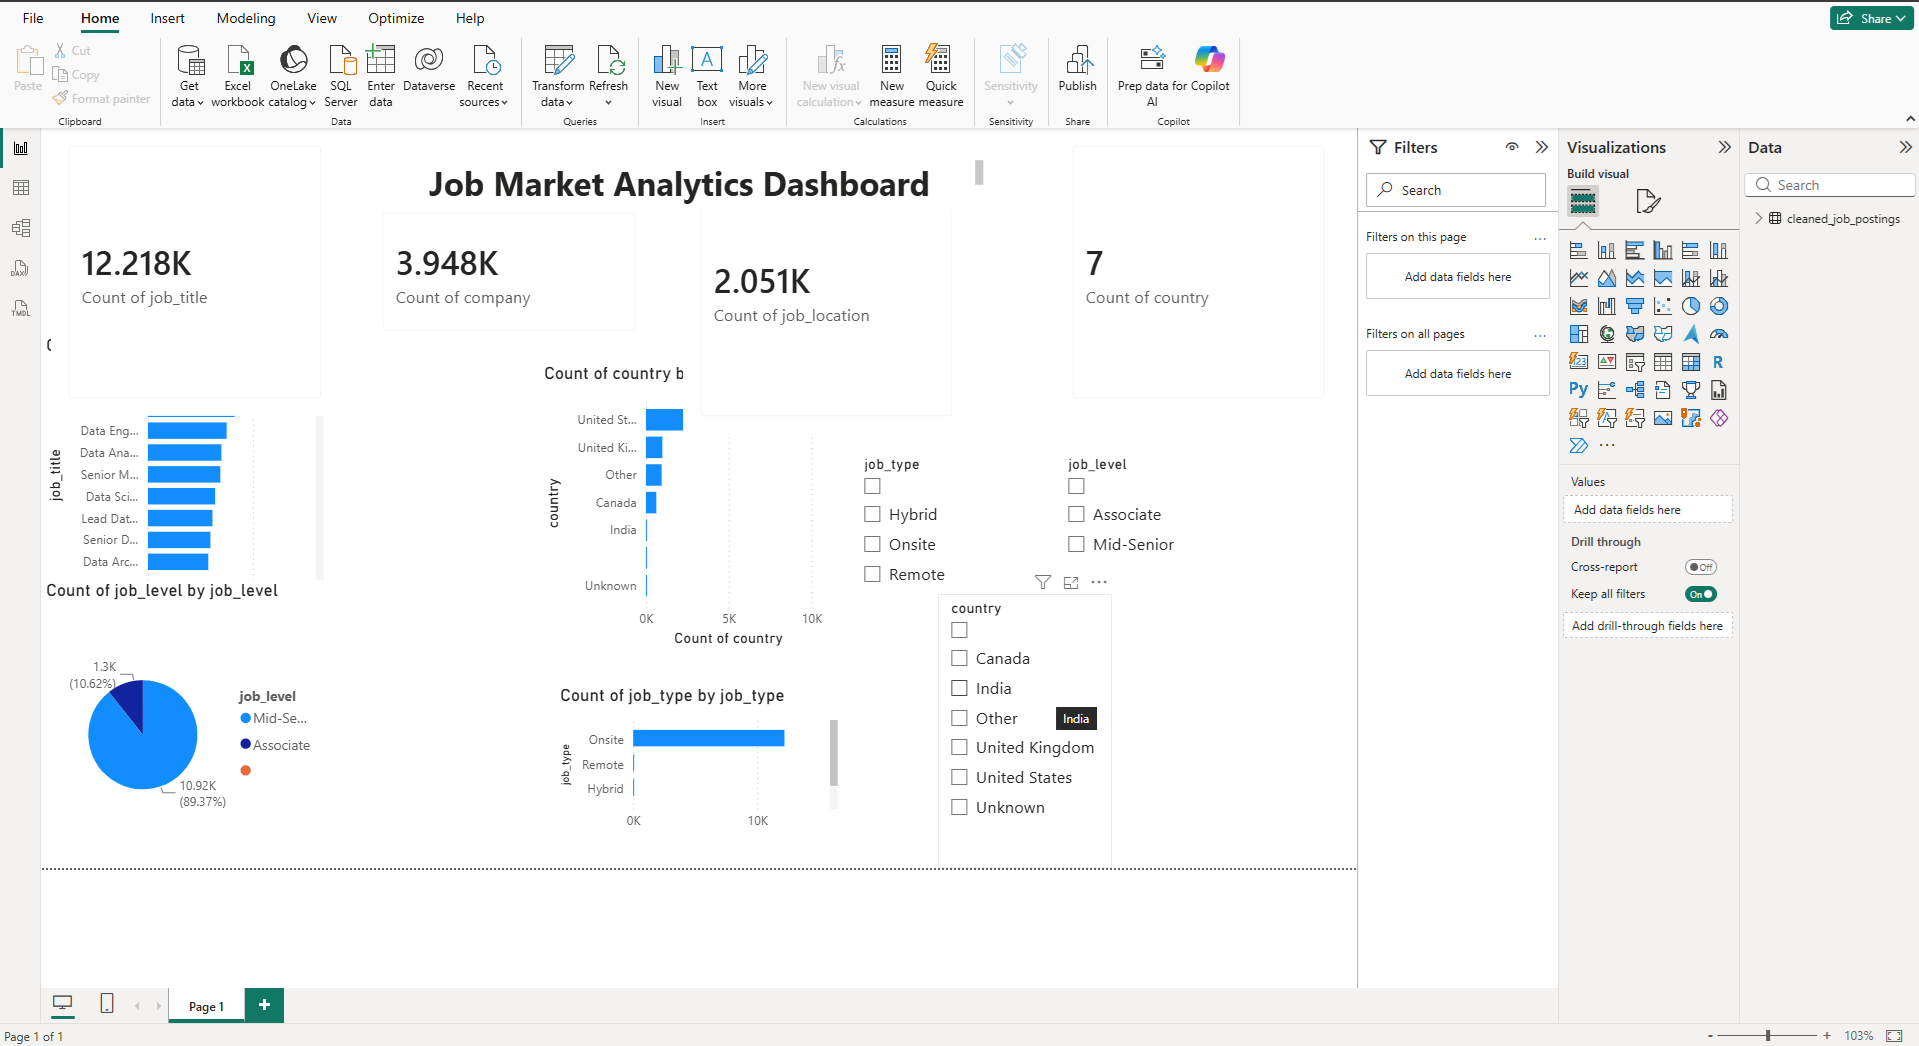

The dashboard page shown, as its layout file describes it:
{"tool":"powerbi","page":{"name":"Page 1","canvas":[1280,720],"ordinal":0},"visuals":[{"type":"clusteredBarChart","fields":{"Category":["cleaned_job_postings.job_title"],"Y":["CountNonNull(cleaned_job_postings.job_title)"]},"box":[0,201.3,280.1,280.1],"z":0},{"type":"pieChart","fields":{"Category":["cleaned_job_postings.job_level"],"Y":["CountNonNull(cleaned_job_postings.job_level)"]},"box":[0,439.6,280.1,280.1],"z":1},{"type":"clusteredBarChart","fields":{"Category":["cleaned_job_postings.job_type"],"Y":["CountNonNull(cleaned_job_postings.job_type)"]},"box":[499.9,541.8,280.1,149.8],"z":2},{"type":"clusteredBarChart","fields":{"Category":["cleaned_job_postings.country"],"Y":["CountNonNull(cleaned_job_postings.country)"]},"box":[484.4,228.6,280.1,280.1],"z":3},{"type":"cardVisual","fields":{"Data":["CountNonNull(cleaned_job_postings.job_title)"]},"box":[9.7,0,280.1,280.1],"z":4},{"type":"cardVisual","fields":{"Data":["Count(cleaned_job_postings.company)"]},"box":[315.1,65.2,280.1,149.8],"z":5},{"type":"cardVisual","fields":{"Data":["Count(cleaned_job_postings.job_location)"]},"box":[624.4,17.5,279.1,280.1],"z":6},{"type":"cardVisual","fields":{"Data":["Count(cleaned_job_postings.country)"]},"box":[986.3,0,279.1,280.1],"z":7},{"type":"textbox","box":[372.5,26.3,548.6,52.5],"z":8},{"type":"slicer","fields":{"Values":["cleaned_job_postings.job_type"]},"box":[787.8,313.2,169.2,266.5],"z":9},{"type":"slicer","fields":{"Values":["cleaned_job_postings.job_level"]},"box":[986,313,279,267],"z":10},{"type":"slicer","fields":{"Values":["cleaned_job_postings.country"]},"box":[872.5,453.3,169.2,266.5],"z":11}]}

Visuals, with their boxes on the page's 1280x720 design canvas (x1, y1, x2, y2). These are canvas units, not pixel positions in the 1919x1046 screenshot, which may show the page scaled, cropped or inside an application window:
clusteredBarChart - cleaned_job_postings.job_title x CountNonNull(cleaned_job_postings.job_title): rect(0, 201, 280, 481)
pieChart - cleaned_job_postings.job_level x CountNonNull(cleaned_job_postings.job_level): rect(0, 440, 280, 720)
clusteredBarChart - cleaned_job_postings.job_type x CountNonNull(cleaned_job_postings.job_type): rect(500, 542, 780, 692)
clusteredBarChart - cleaned_job_postings.country x CountNonNull(cleaned_job_postings.country): rect(484, 229, 764, 509)
cardVisual - CountNonNull(cleaned_job_postings.job_title): rect(10, 0, 290, 280)
cardVisual - Count(cleaned_job_postings.company): rect(315, 65, 595, 215)
cardVisual - Count(cleaned_job_postings.job_location): rect(624, 18, 904, 298)
cardVisual - Count(cleaned_job_postings.country): rect(986, 0, 1265, 280)
textbox: rect(372, 26, 921, 79)
slicer - cleaned_job_postings.job_type: rect(788, 313, 957, 580)
slicer - cleaned_job_postings.job_level: rect(986, 313, 1265, 580)
slicer - cleaned_job_postings.country: rect(872, 453, 1042, 720)
